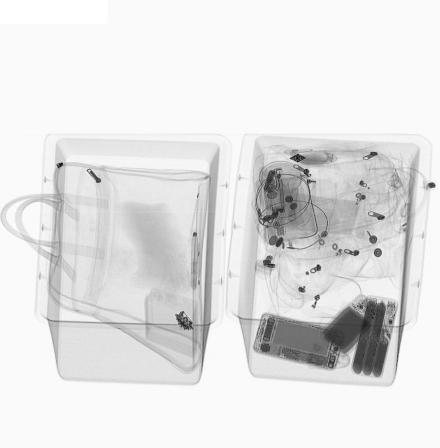Powerbank: (351, 297, 398, 380)
